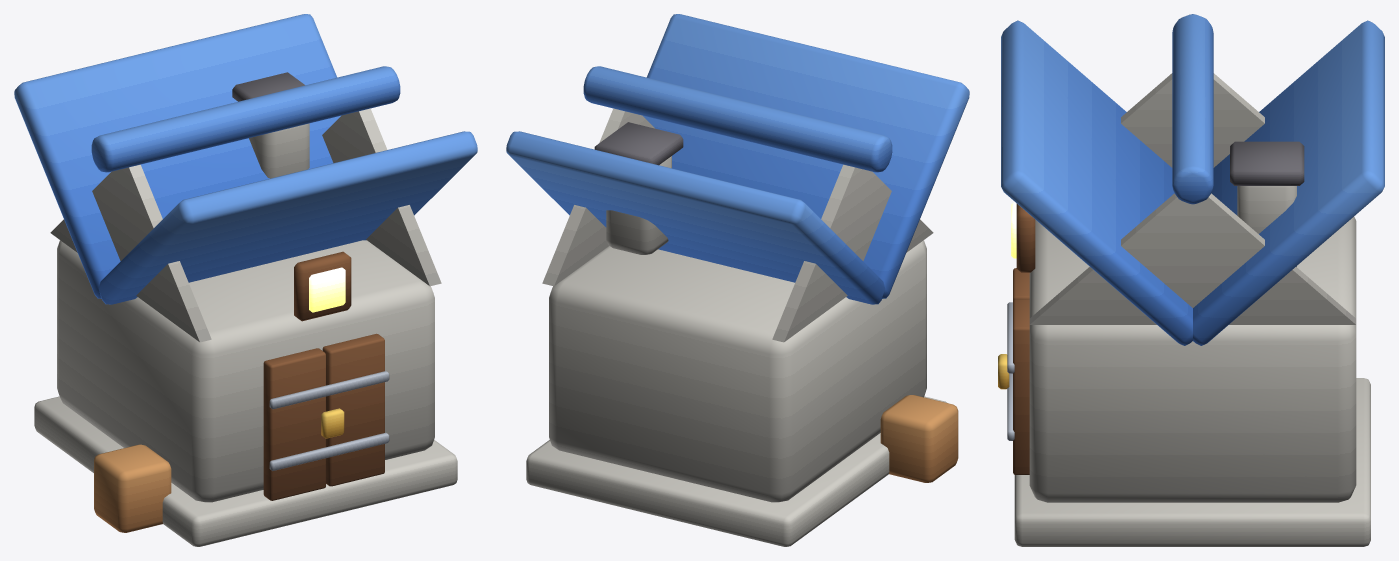
Rendered from homeB.glb.
The picture shows the model from 3 angles, left to right: view 1: azimuth 30°, elevation 25°; view 2: azimuth 150°, elevation 25°; view 3: azimuth 270°, elevation 25°; orthographic projection. The views are drawn at different scales.
Visible parts, largest first — view 1: homeB; view 2: homeB; view 3: homeB.
Boxes of the visible parts, left/top/right/bottom form: homeB: left=14, top=14, right=477, bottom=546; homeB: left=506, top=14, right=969, bottom=546; homeB: left=998, top=14, right=1384, bottom=546.
Bounding box in the file's own units: 1.09 × 1.16 × 1.04.
1 material, 1 textured.
